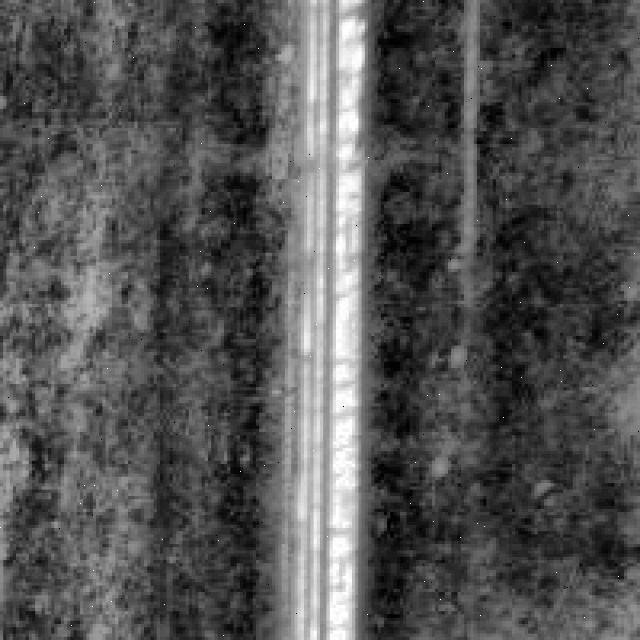Inclusion: (282, 0, 368, 637)
